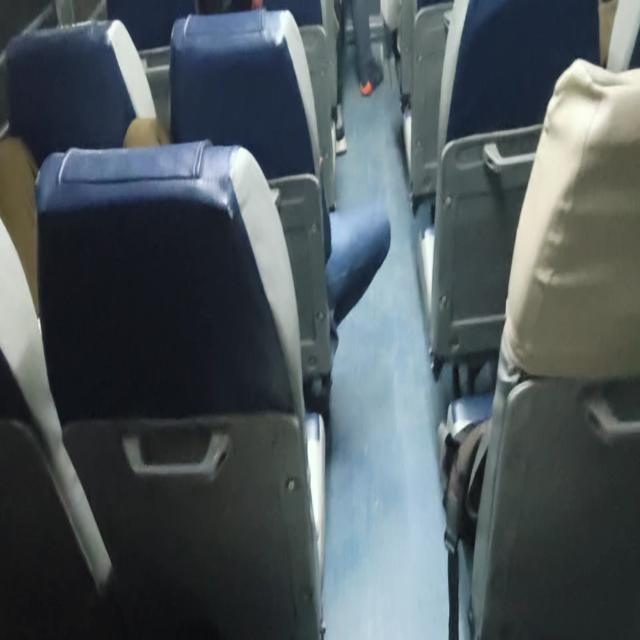person: (191, 0, 275, 30)
